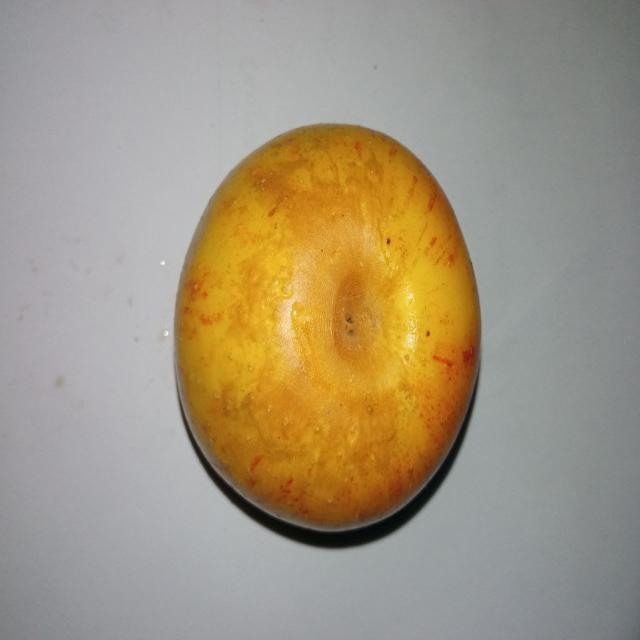fresh_apple: (172, 122, 478, 531)
